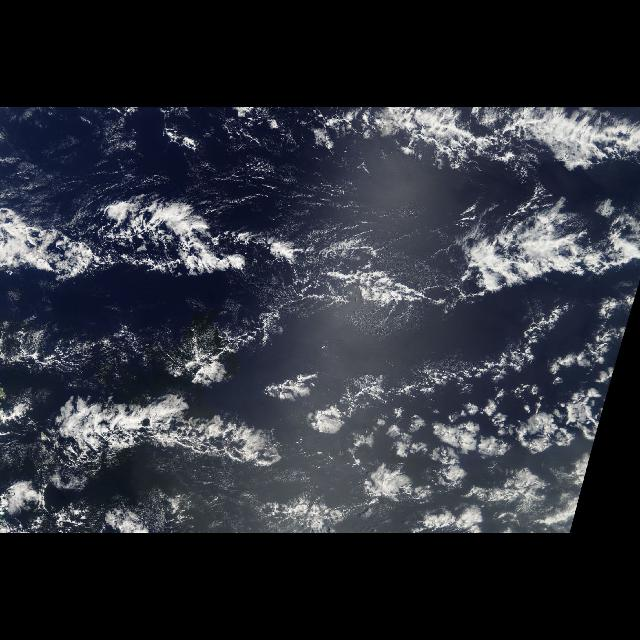Fish: (11, 210, 607, 310), (29, 387, 287, 501)
Flower: (268, 326, 614, 532)
Sugar: (14, 163, 322, 495)
